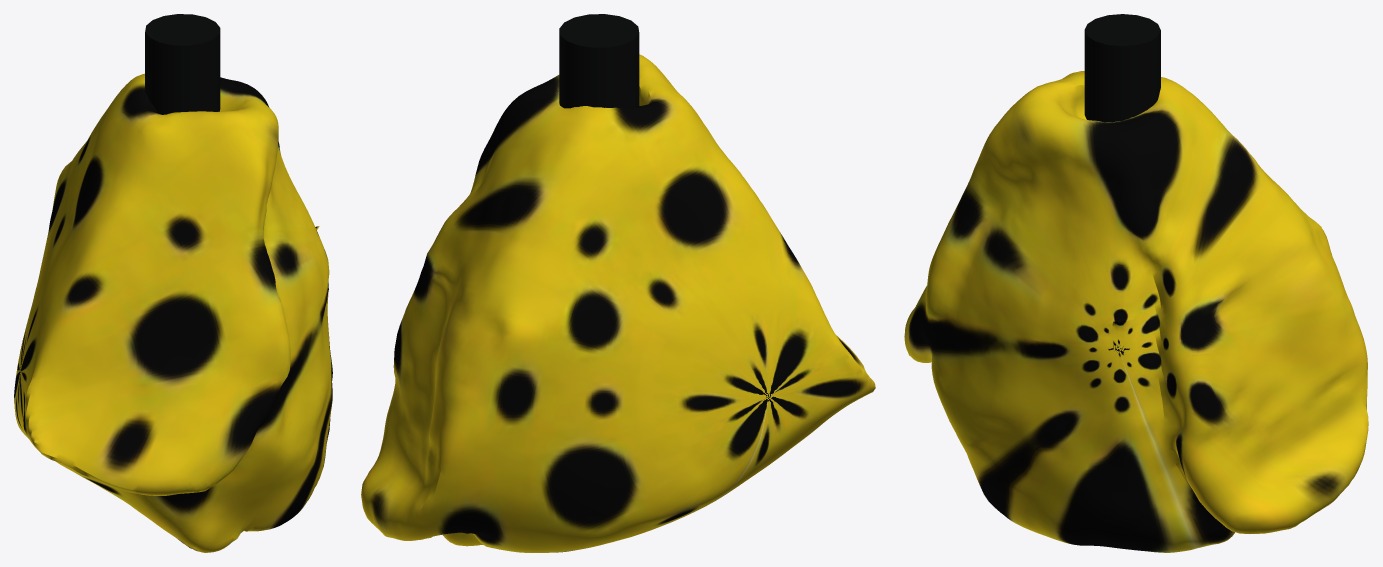
File: birdjar_decimated.fbx
3 renders of one model, left to right at view 1: azimuth 30°, elevation 25°; view 2: azimuth 150°, elevation 25°; view 3: azimuth 270°, elevation 25°, orthographic. The views are drawn at different scales.
Parts seen in each view (by area): view 1: Default, Cylinder; view 2: Default, Cylinder; view 3: Default, Cylinder.
Part boxes in pixels (box(x1,y1,x2,y2)): Default: box(14, 73, 332, 552); Cylinder: box(145, 14, 220, 114); Default: box(361, 54, 875, 552); Cylinder: box(559, 14, 639, 108); Default: box(904, 71, 1368, 552); Cylinder: box(1084, 14, 1160, 122).
Bounding box in the file's own units: 37.95 × 47.56 × 41.98.
2 materials, 1 textured.
